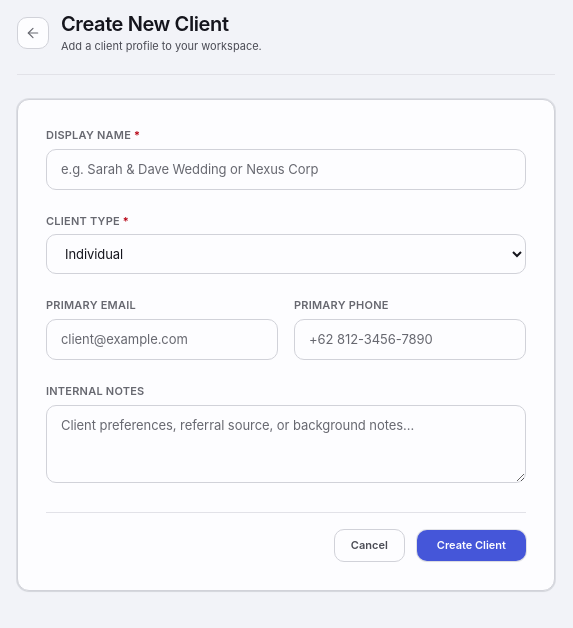
ClientNewRoute (CLIENT-REQ-002 / CLIENT-REQ-007) › validates display name is required
Click the button "Create Client" at (471, 546), box 417,530 -> 526,561
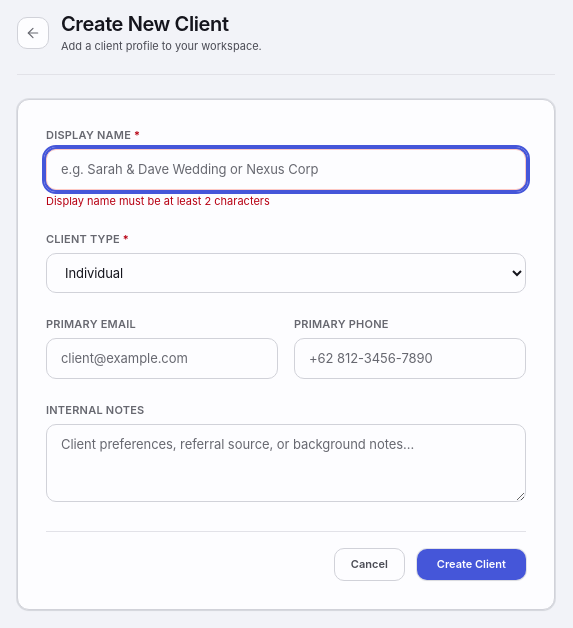
Check: the text "Display name must be at least 2 characters" is shown, box 46,194 -> 270,208
